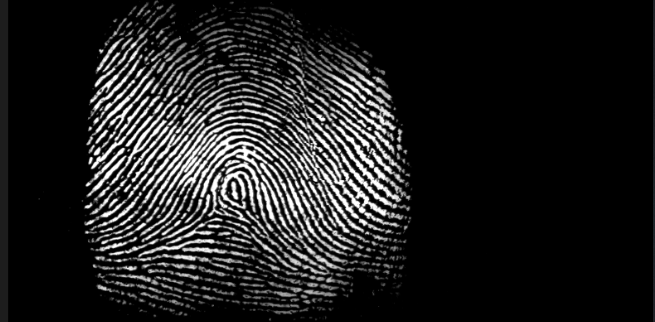nucelo: (221, 170, 252, 206)
verticilo: (252, 223, 274, 242), (201, 207, 226, 223)
